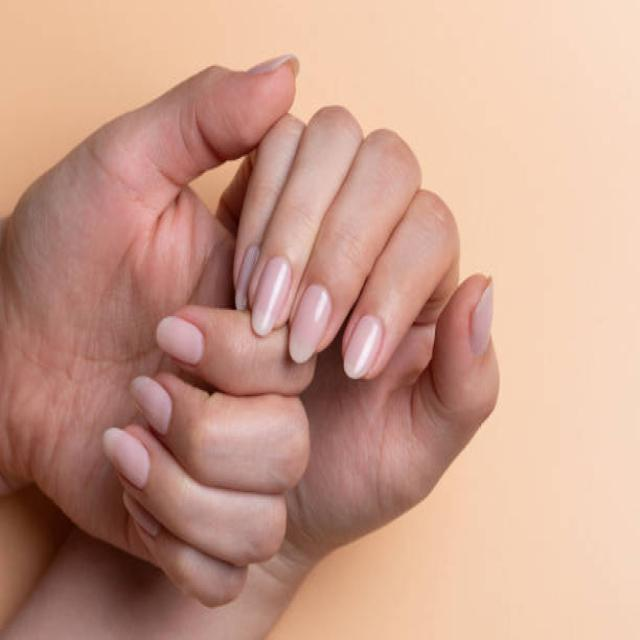Nail: (289, 284, 331, 365), (252, 256, 292, 336), (102, 427, 150, 489), (344, 314, 383, 379), (130, 376, 172, 434), (156, 316, 204, 365), (122, 492, 160, 538), (235, 244, 260, 312), (470, 280, 492, 354), (248, 55, 299, 75)
